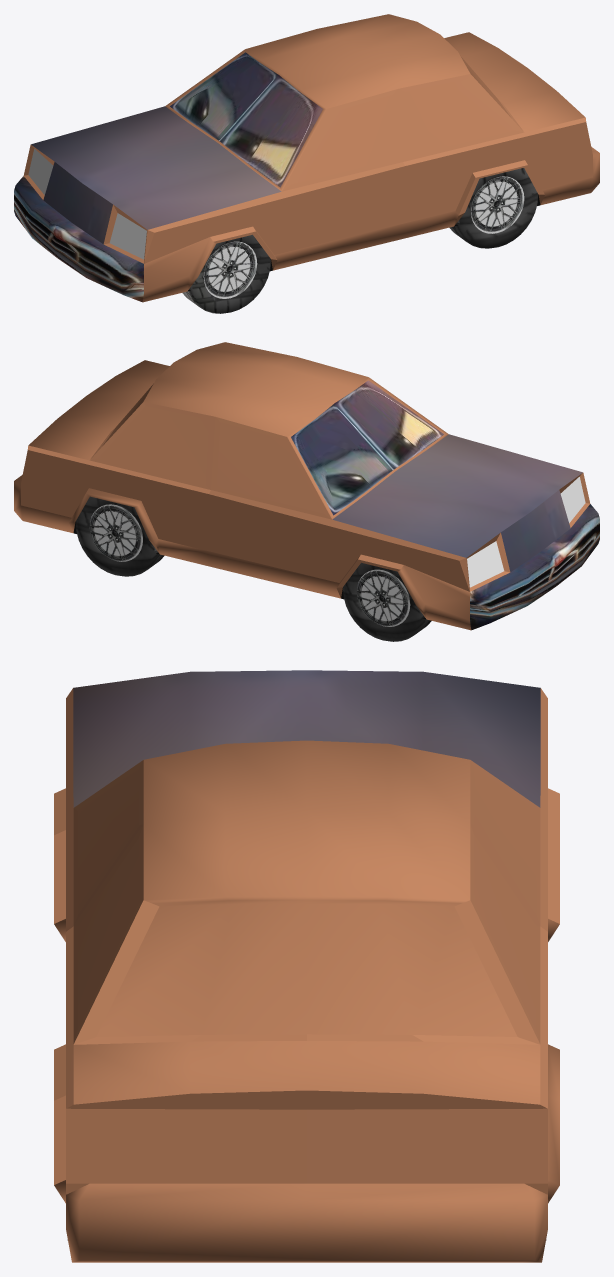
Rendered from cars.obj.
3 views of the same model, one above another, from view 1: azimuth 30°, elevation 25°; view 2: azimuth 150°, elevation 25°; view 3: azimuth 270°, elevation 25° (orthographic). The views are drawn at different scales.
Visible parts, largest first — view 1: Car_Cube; view 2: Car_Cube; view 3: Car_Cube.
Boxes of the visible parts, x1=… form: Car_Cube: x1=14, y1=14, x2=599, y2=313; Car_Cube: x1=14, y1=342, x2=599, y2=641; Car_Cube: x1=54, y1=670, x2=559, y2=1262.
Size of the model in its own units: 4.66 by 1.59 by 2.1.
